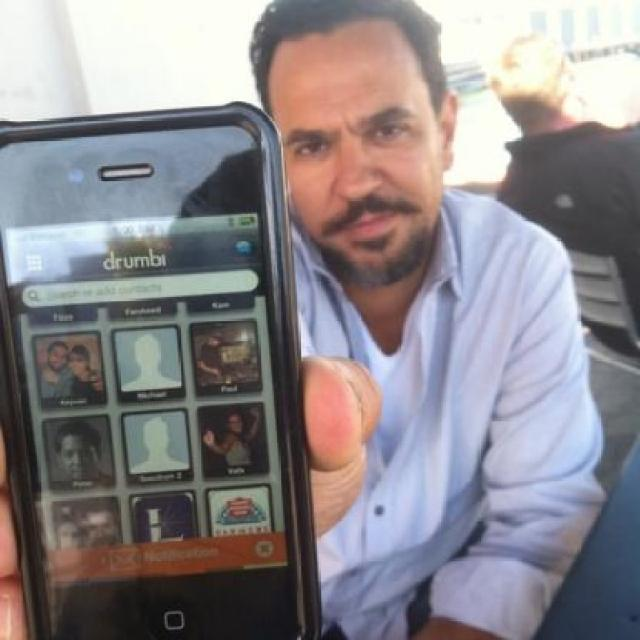phone: (9, 77, 331, 640)
